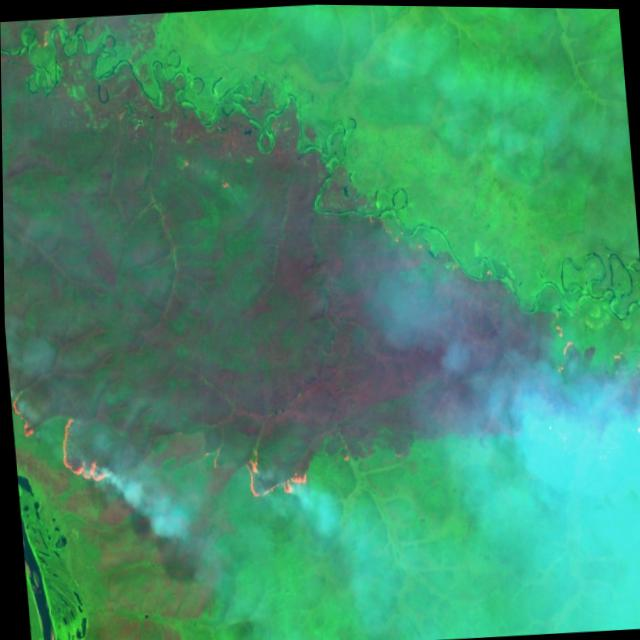fire: (8, 376, 119, 510), (542, 303, 640, 451), (232, 437, 317, 510)
